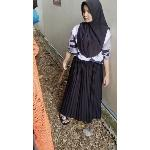Kapak: (56, 59, 72, 87)
